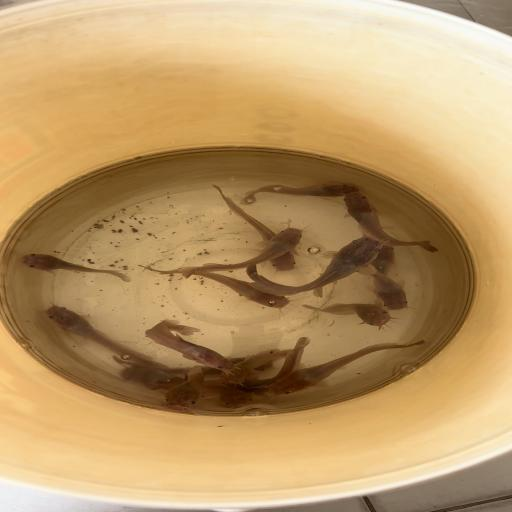lele: (266, 340, 426, 398), (245, 235, 386, 295), (138, 226, 307, 276), (208, 185, 296, 272), (43, 304, 163, 366), (341, 193, 440, 253), (155, 269, 291, 311), (144, 319, 238, 374), (225, 336, 311, 394), (22, 252, 132, 287), (112, 355, 277, 376), (239, 182, 359, 205), (220, 348, 294, 384), (302, 302, 393, 328), (361, 269, 411, 311), (162, 367, 211, 409), (121, 366, 182, 390), (366, 242, 403, 277), (203, 384, 254, 408)
